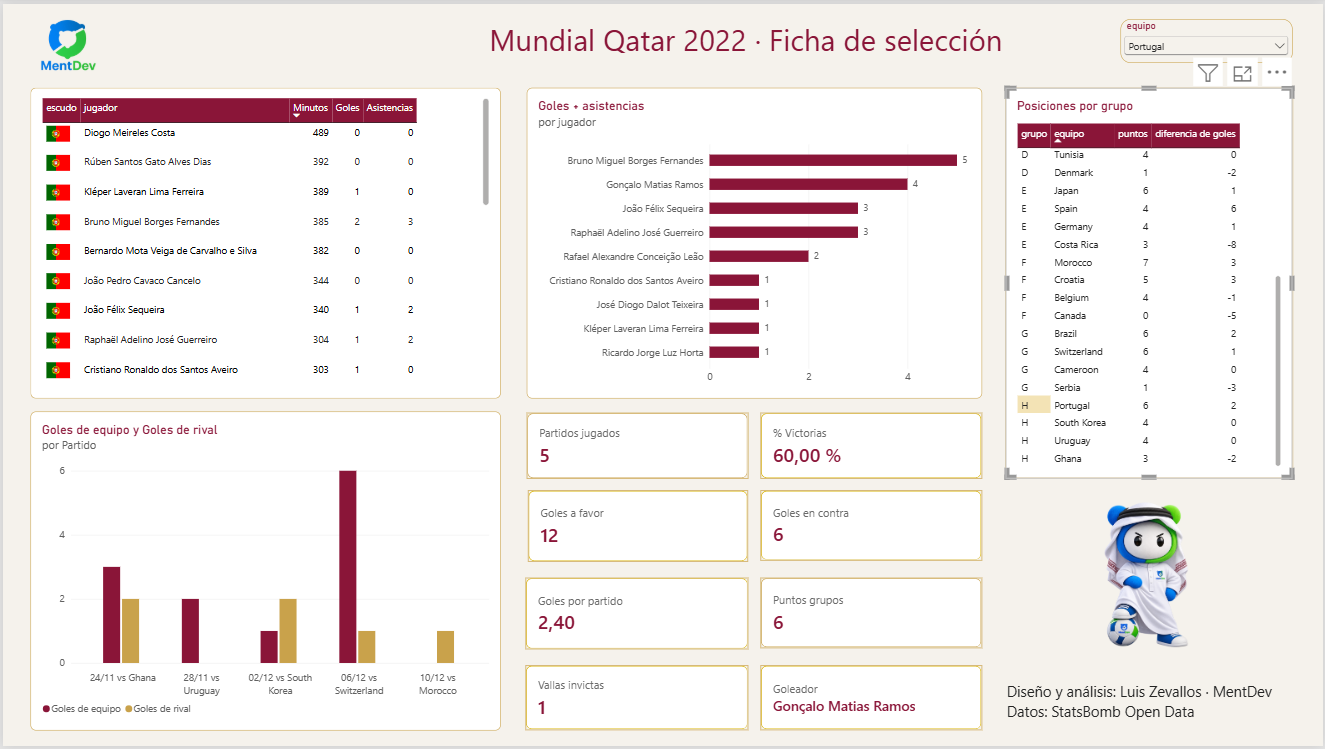

What the dashboard file says about the page in this screenshot:
{"tool":"powerbi","page":{"name":"Página 1","canvas":[1920,1080],"ordinal":0},"visuals":[{"type":"slicer","fields":{"Values":["Equipos.equipo"]},"box":[1625,21.4,250,64],"z":0},{"type":"tableEx","fields":{"Values":["Equipos.escudo","Estadisticas.jugador","Estadisticas.minutos","Estadisticas.goles","Estadisticas.asistencias"]},"box":[40,122,684,452],"z":1000},{"type":"clusteredBarChart","fields":{"Category":["Estadisticas.jugador"],"Y":["Sum(Estadisticas.goles_asistencias)"]},"box":[762,122,662,452],"z":2000},{"type":"clusteredColumnChart","title":"Goles de equipo y Goles de rival","fields":{"Category":["Partidos.Etiqueta"],"Y":["Sum(Partidos.goles_equipo)","Sum(Partidos.goles_rival)"]},"box":[40,592,684,464],"z":3000},{"type":"tableEx","title":"Posiciones por grupo","fields":{"Values":["Clasificacion.grupo","Clasificacion.equipo","Clasificacion.puntos","Clasificacion.dif_goles"]},"box":[1458,122,418,568],"z":4000},{"type":"cardVisual","fields":{"Data":["Partidos.Partidos jugados"]},"box":[762,594,322,96],"z":5000},{"type":"cardVisual","fields":{"Data":["Partidos.Goles a favor"]},"box":[764,708,320,104],"z":6000},{"type":"cardVisual","fields":{"Data":["Partidos.Goles en contra"]},"box":[1102,708,322,102],"z":7000},{"type":"cardVisual","fields":{"Data":["Partidos.% Victorias"]},"box":[1102,594,322,96],"z":8000},{"type":"textbox","box":[708,22,752,80],"z":9000},{"type":"cardVisual","fields":{"Data":["Partidos.Puntos grupos"]},"box":[1102,834,322,102],"z":10000},{"type":"cardVisual","fields":{"Data":["Partidos.Goles por partido"]},"box":[760,834,324,104],"z":11000},{"type":"cardVisual","fields":{"Data":["Partidos.Vallas invictas"]},"box":[760,962,324,94],"z":12000},{"type":"cardVisual","fields":{"Data":["Partidos.Goleador"]},"box":[1102,962,322,94],"z":13000},{"type":"image","box":[40,8,108,112],"z":14000},{"type":"image","box":[1458,724,402,214],"z":15000},{"type":"textbox","box":[1460,986,420,70],"z":16000}]}

Visuals, with their boxes in screenshot pixels (x1, y1, x2, y2), scaled from the page's 1920x1080 canvas onto the 1325x749 screenshot:
slicer - Equipos.equipo: bbox(1121, 15, 1294, 59)
tableEx - Equipos.escudo x Estadisticas.jugador: bbox(28, 85, 500, 398)
clusteredBarChart - Estadisticas.jugador x Sum(Estadisticas.goles_asistencias): bbox(526, 85, 983, 398)
"Goles de equipo y Goles de rival" clusteredColumnChart: bbox(28, 411, 500, 732)
"Posiciones por grupo" tableEx: bbox(1006, 85, 1295, 479)
cardVisual - Partidos.Partidos jugados: bbox(526, 412, 748, 479)
cardVisual - Partidos.Goles a favor: bbox(527, 491, 748, 563)
cardVisual - Partidos.Goles en contra: bbox(760, 491, 983, 562)
cardVisual - Partidos.% Victorias: bbox(760, 412, 983, 479)
textbox: bbox(489, 15, 1008, 71)
cardVisual - Partidos.Puntos grupos: bbox(760, 578, 983, 649)
cardVisual - Partidos.Goles por partido: bbox(524, 578, 748, 651)
cardVisual - Partidos.Vallas invictas: bbox(524, 667, 748, 732)
cardVisual - Partidos.Goleador: bbox(760, 667, 983, 732)
image: bbox(28, 6, 102, 83)
image: bbox(1006, 502, 1284, 651)
textbox: bbox(1008, 684, 1297, 732)
